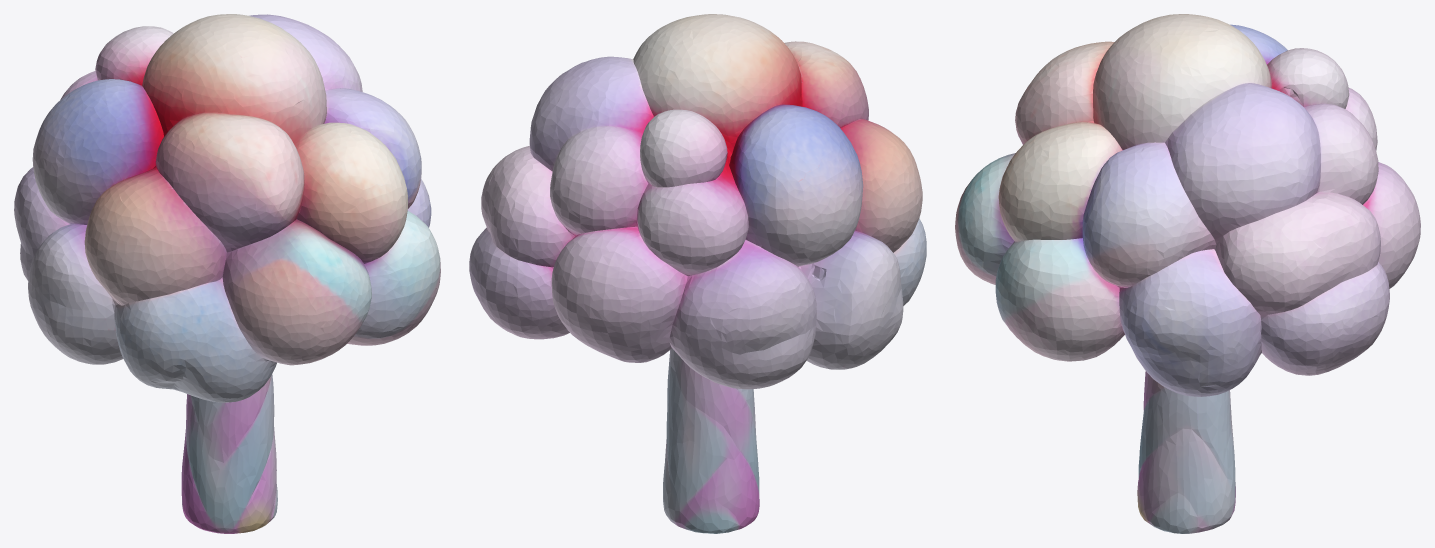
The model's file is prop_cottoncandy.glb.
3 renders of one model, left to right at view 1: azimuth 30°, elevation 25°; view 2: azimuth 150°, elevation 25°; view 3: azimuth 270°, elevation 25°, orthographic.
Parts seen in each view (by area): view 1: world; view 2: world; view 3: world.
Boxes of the visible parts, x1,y1,x2,y2 form: world: [14, 14, 440, 533]; world: [469, 14, 926, 533]; world: [955, 14, 1420, 533].
Bounding box in the file's own units: 0.8019 × 1 × 0.8582.
1 material, 1 textured.
